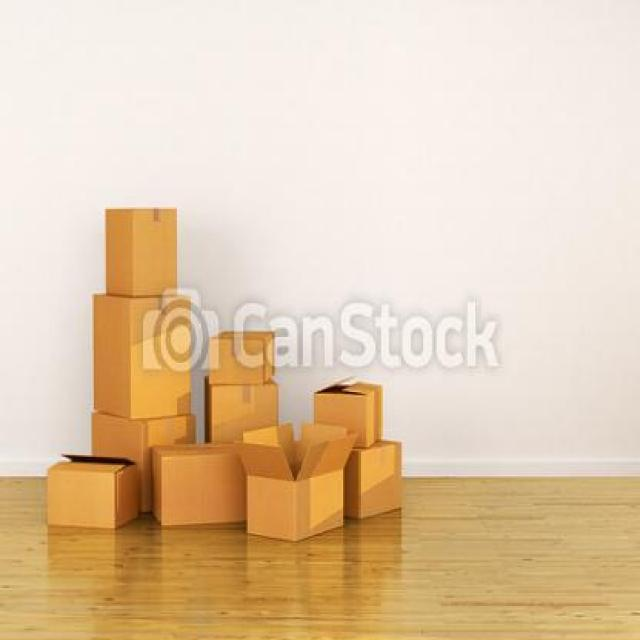box: (230, 407, 364, 562), (83, 277, 208, 429), (76, 387, 204, 530), (146, 439, 246, 572), (39, 450, 147, 546), (302, 361, 392, 462), (105, 204, 186, 298), (344, 441, 425, 526), (202, 378, 281, 464), (200, 315, 288, 391)
